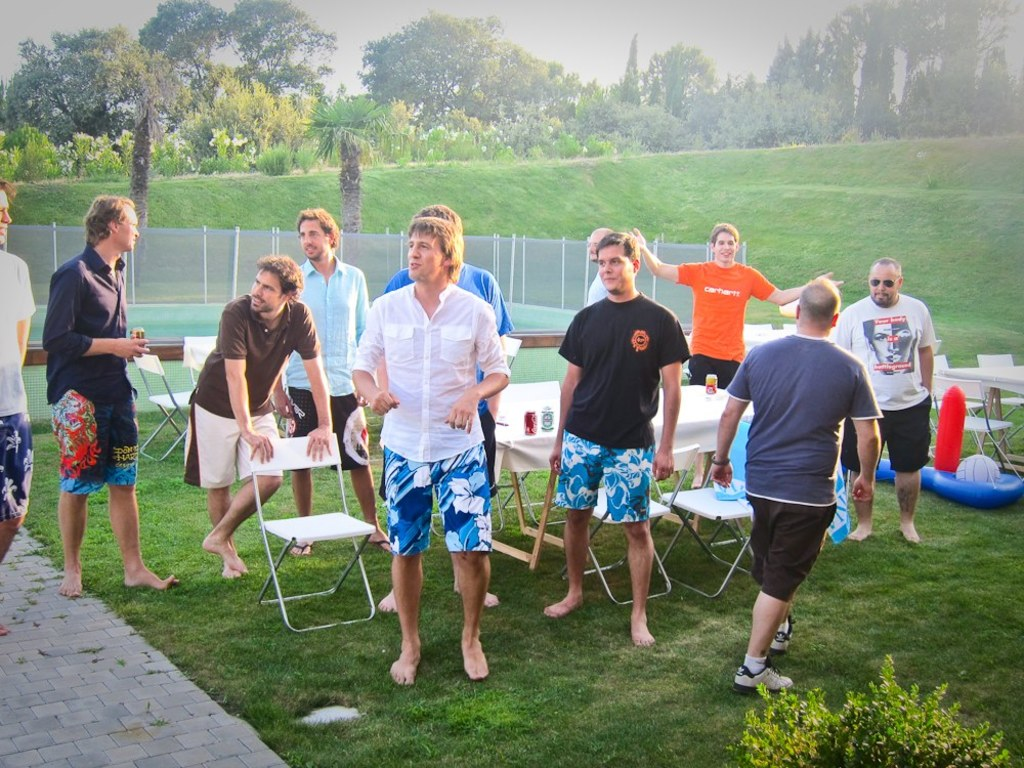Person: (0, 178, 935, 692)
